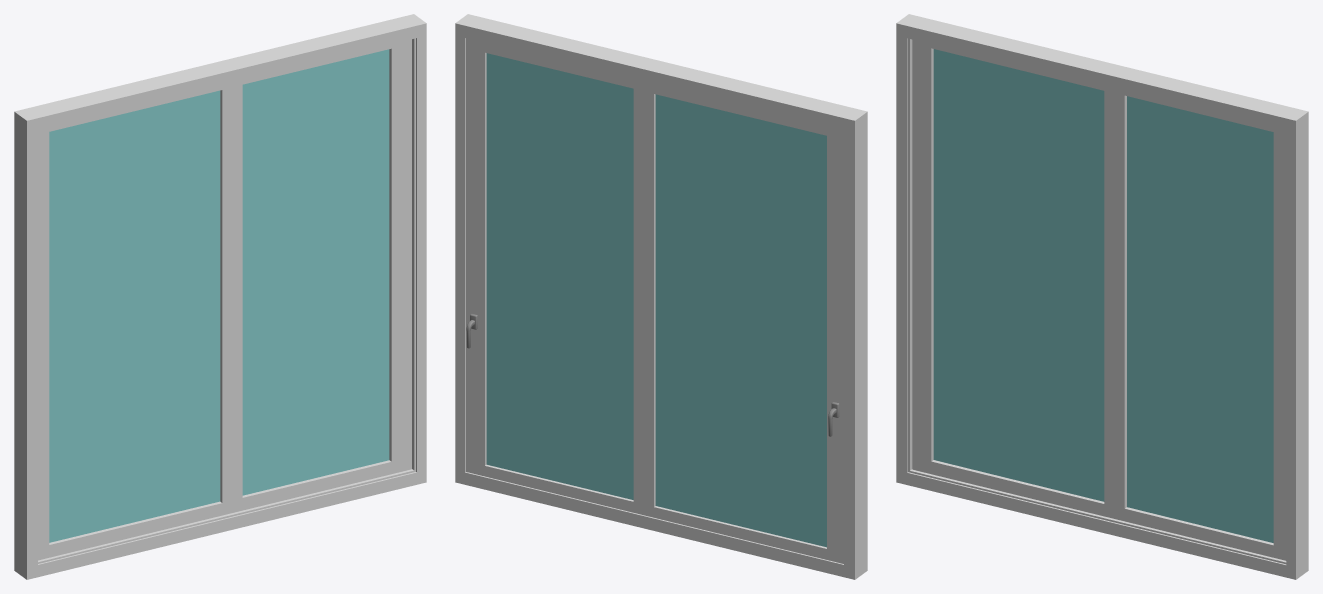
File: WindowRight1.fbx
The picture shows the model from 3 angles, left to right: view 1: azimuth 30°, elevation 25°; view 2: azimuth 150°, elevation 25°; view 3: azimuth 330°, elevation 25°; orthographic projection.
Parts seen in each view (by area): view 1: Box030, Box031, WindowRight_001, InLeft011, InLeft012; view 2: Box030, Box031, WindowRight_001, InLeft012, InLeft011; view 3: Box030, Box031, WindowRight_001, InLeft011, InLeft012.
Part boxes in pixels (box(x1,y1,x2,y2)): Box030: box(49, 90, 220, 542); Box031: box(242, 49, 389, 495); WindowRight_001: box(14, 14, 426, 579); InLeft011: box(38, 80, 242, 560); InLeft012: box(242, 39, 411, 510); Box030: box(655, 94, 826, 547); Box031: box(486, 53, 633, 499); WindowRight_001: box(455, 14, 867, 579); InLeft012: box(466, 38, 652, 517); InLeft011: box(633, 84, 843, 563); Box030: box(933, 49, 1104, 501); Box031: box(1127, 96, 1273, 542); WindowRight_001: box(896, 14, 1308, 579); InLeft011: box(912, 40, 1126, 521); InLeft012: box(1124, 91, 1286, 560).
Bounding box in the file's own units: 100 × 110 × 8.07.
